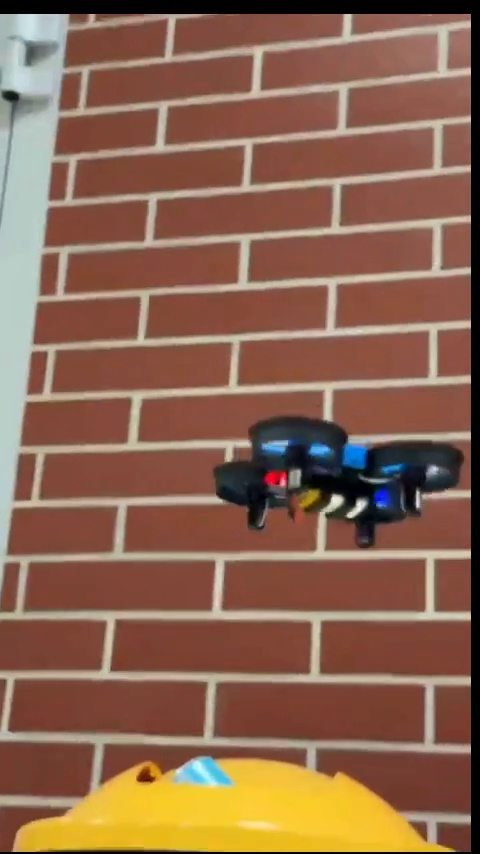drone: (211, 416, 462, 549)
